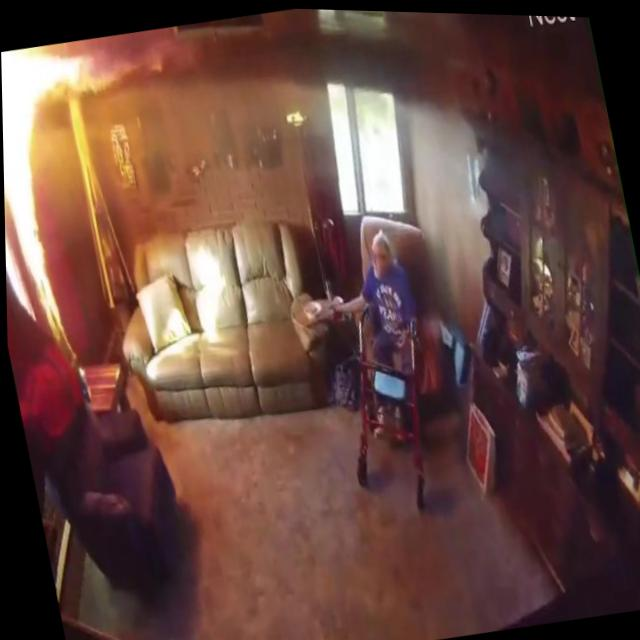fire: (1, 60, 63, 341), (1, 35, 104, 126)
